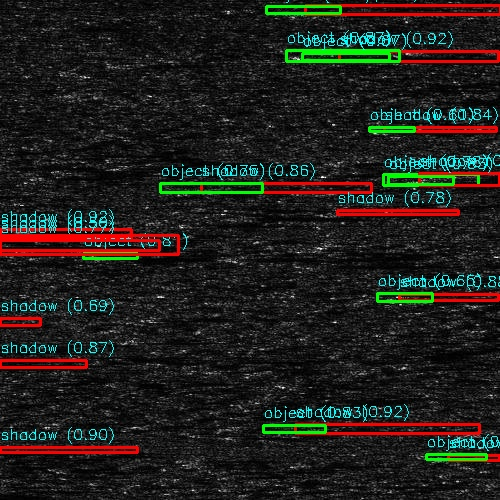rock: (249, 51, 394, 62), (394, 451, 487, 464), (187, 250, 250, 263), (411, 43, 500, 52), (166, 184, 239, 193), (0, 158, 49, 169), (269, 6, 342, 13), (268, 423, 321, 432), (371, 295, 424, 304), (432, 120, 500, 127), (404, 178, 457, 183), (246, 211, 267, 218), (0, 359, 11, 368), (469, 156, 500, 159), (122, 164, 153, 167), (468, 171, 489, 174)
shadow: (13, 158, 300, 169), (219, 250, 401, 263), (322, 51, 500, 62), (295, 423, 484, 432), (203, 184, 382, 193), (306, 6, 500, 13), (0, 242, 168, 249), (257, 211, 394, 218), (398, 295, 500, 304), (0, 359, 100, 368), (441, 451, 500, 464), (138, 164, 311, 167), (311, 263, 452, 266), (458, 43, 500, 52), (431, 178, 500, 183), (0, 319, 29, 328), (479, 120, 500, 127), (479, 171, 500, 174)
